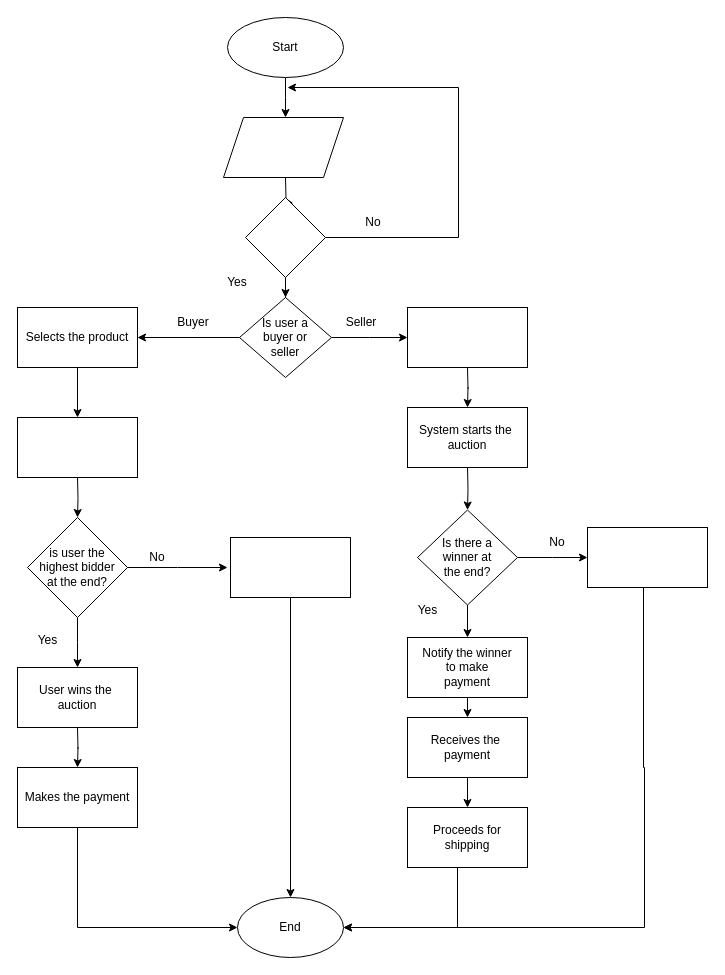
Image size: 725x975. Some labels were removed from this diagram. The shapes that lost their labels are listed below. From the top down, each one's box as (x1, y1, x2, y2) in pixels, then its label:
(222, 116, 344, 178): Enter the credentials
(244, 196, 326, 278): Is valid user?
(406, 306, 528, 368): List the product for auction
(16, 416, 138, 478): Make a bid
(230, 536, 350, 598): Notify user they didn't win
(586, 526, 708, 588): Removes the product from listing
